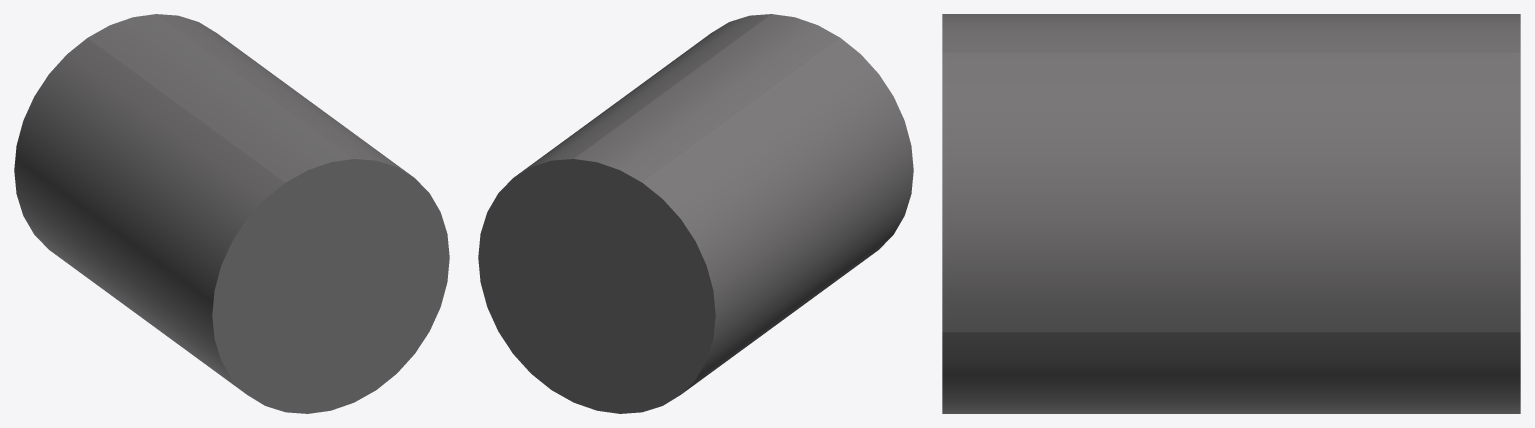
The model's file is frame__seat_right_tab.glb.
The picture shows the model from 3 angles, left to right: view 1: azimuth 30°, elevation 25°; view 2: azimuth 150°, elevation 25°; view 3: azimuth 270°, elevation 25°; orthographic projection. The views are drawn at different scales.
Visible parts, largest first — view 1: world; view 2: world; view 3: world.
Part boxes in pixels (bbox=[...]): world: bbox=[14, 14, 449, 413]; world: bbox=[478, 14, 913, 413]; world: bbox=[942, 14, 1520, 413].
Bounding box in the file's own units: 0.018 × 0.018 × 0.026.
Materials: 1 (1 with a texture image).
